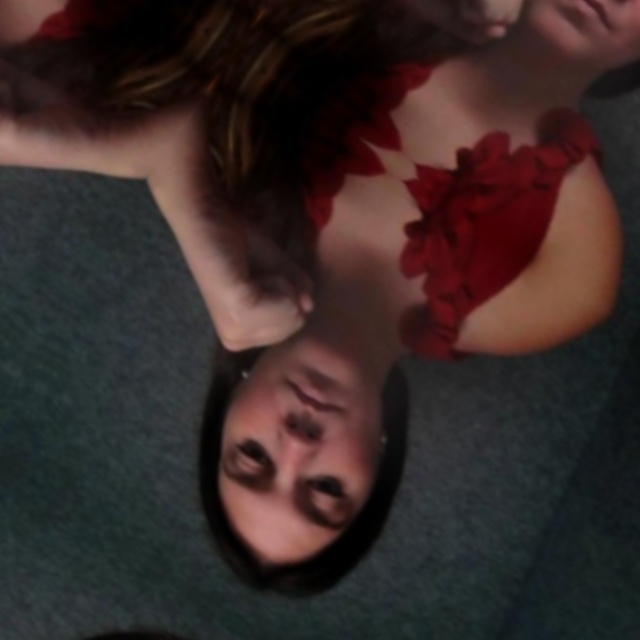Rock: (0, 0, 151, 252)
